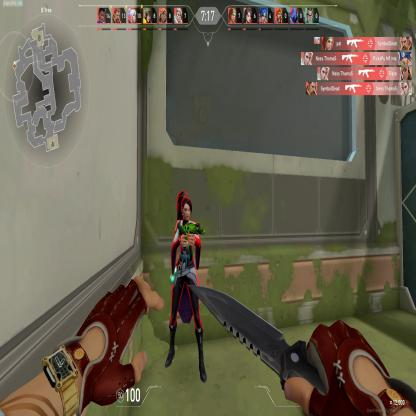enemy: (164, 188, 208, 386)
